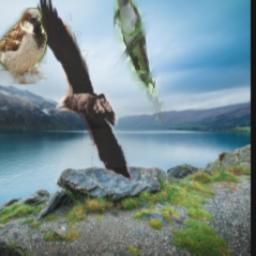Crow: (34, 0, 133, 184)
Cuckoo: (112, 0, 165, 125)
Sparrow: (0, 9, 46, 85)
